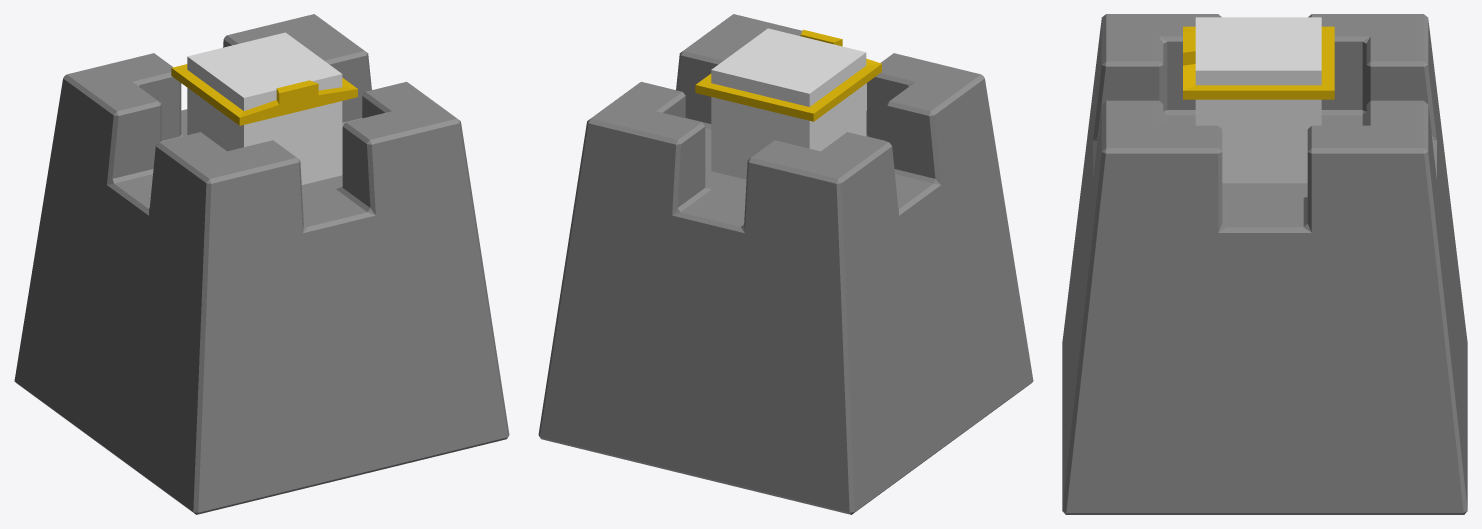
Rendered from princess_tower.fbx.
3 views of the same model, side by side, from view 1: azimuth 30°, elevation 25°; view 2: azimuth 150°, elevation 25°; view 3: azimuth 270°, elevation 25° (orthographic). The views are drawn at different scales.
Parts seen in each view (by area): view 1: tower, princess, princess_crown; view 2: tower, princess, princess_crown; view 3: tower, princess, princess_crown.
Boxes of the visible parts, x1,y1,x2,y2 form: tower: (14, 14, 509, 514); princess: (187, 32, 342, 184); princess_crown: (171, 64, 357, 125); tower: (538, 14, 1033, 514); princess: (711, 28, 866, 179); princess_crown: (695, 29, 881, 121); tower: (1062, 14, 1467, 514); princess: (1195, 17, 1321, 183); princess_crown: (1183, 26, 1334, 99).
Size of the model in its own units: 200 by 211 by 200.
